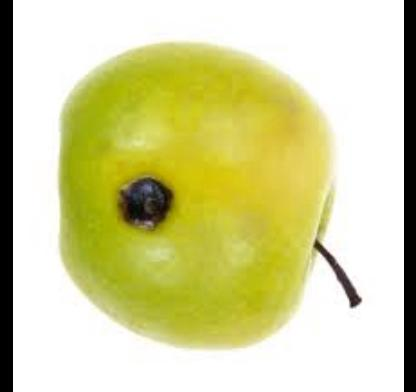defect: (69, 147, 222, 271)
